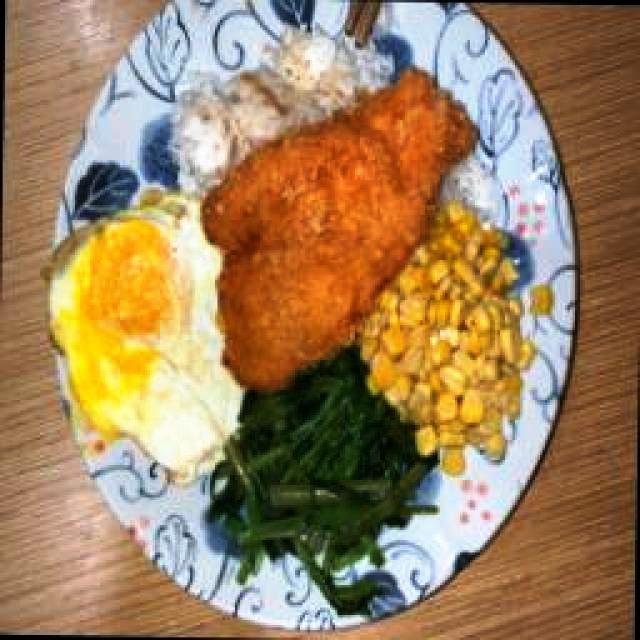fried_chicken: (202, 66, 482, 390)
fried_eggs: (48, 188, 246, 483)
rice: (170, 25, 395, 196)
water_spinach: (203, 348, 437, 608)
